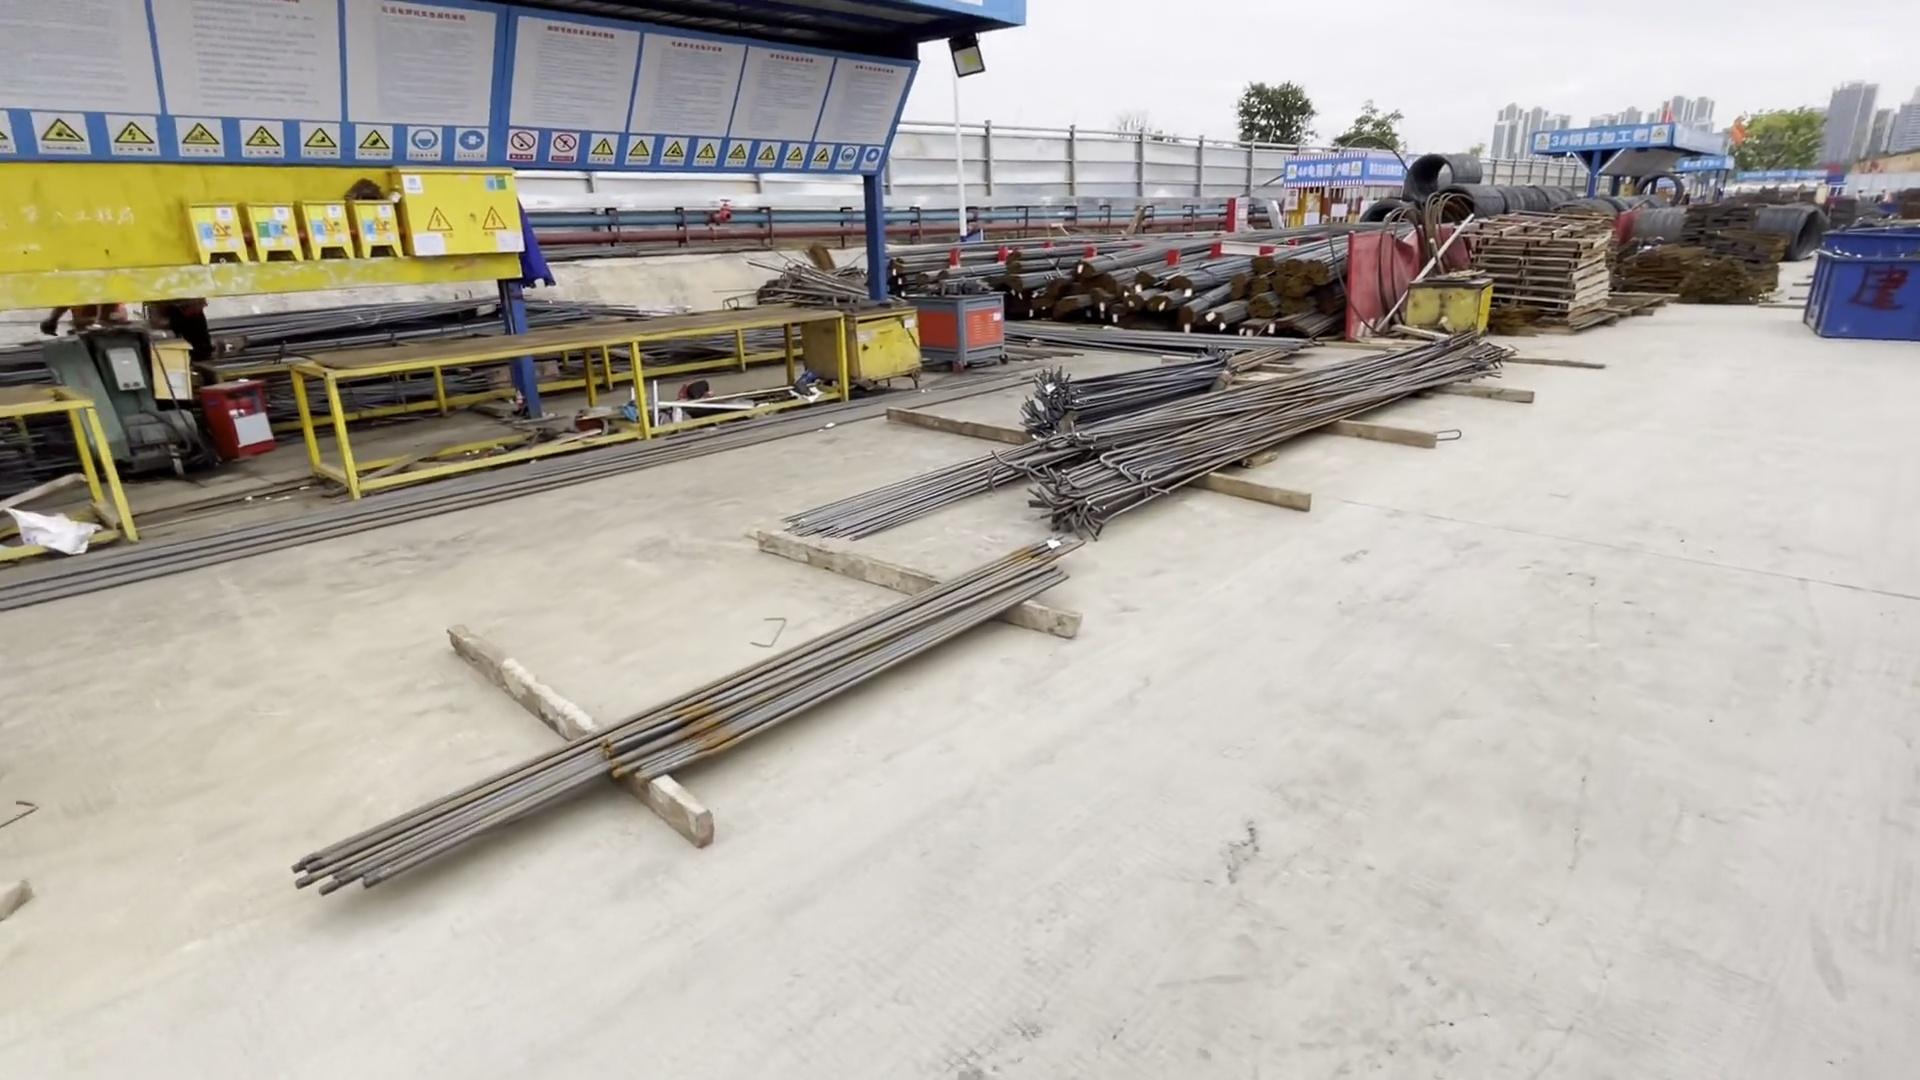ebox: (156, 166, 517, 273)
hopper: (1801, 227, 1920, 345)
rebar: (295, 335, 1531, 891), (878, 241, 1358, 357)
slogan: (1, 1, 942, 178)
